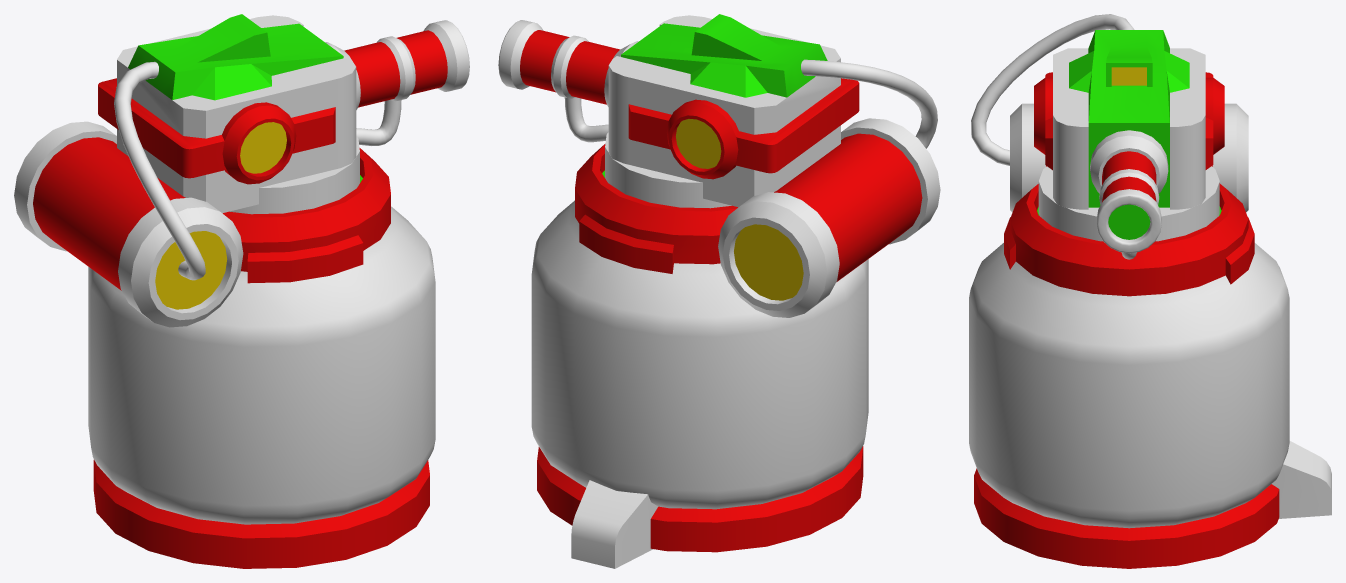
The model's file is Turret.fbx.
The picture shows the model from 3 angles, left to right: view 1: azimuth 30°, elevation 25°; view 2: azimuth 150°, elevation 25°; view 3: azimuth 270°, elevation 25°; orthographic projection. The views are drawn at different scales.
Visible parts, largest first — view 1: Base, TurretHead, BackTank, Canon, BezierCurve.001, TurretBase, BezierCurve; view 2: Base, TurretHead, BackTank, Canon, Foot, TurretBase, BezierCurve.001, BezierCurve; view 3: Base, TurretHead, Canon, BackTank, TurretBase, BezierCurve.001, Foot, CanonBase.
Boxes of the visible parts, <box> form: Base: <box>88,148,435,568</box>; TurretHead: <box>98,14,356,213</box>; BackTank: <box>14,121,243,327</box>; Canon: <box>344,20,469,107</box>; BezierCurve.001: <box>114,61,205,280</box>; TurretBase: <box>230,136,359,214</box>; BezierCurve: <box>356,99,401,145</box>; Base: <box>531,144,868,552</box>; TurretHead: <box>608,14,859,207</box>; BackTank: <box>718,118,940,317</box>; Canon: <box>498,20,619,104</box>; Foot: <box>571,480,658,568</box>; TurretBase: <box>605,132,731,208</box>; BezierCurve.001: <box>801,59,937,148</box>; BezierCurve: <box>564,97,608,142</box>; Base: <box>969,183,1289,568</box>; TurretHead: <box>1034,30,1224,209</box>; Canon: <box>1096,151,1161,253</box>; BackTank: <box>1010,103,1248,212</box>; TurretBase: <box>1038,166,1219,241</box>; BezierCurve.001: <box>971,14,1134,165</box>; Foot: <box>1272,441,1331,518</box>; CanonBase: <box>1090,130,1168,193</box>.
Bounding box in the file's own units: 338 × 406 × 304.
